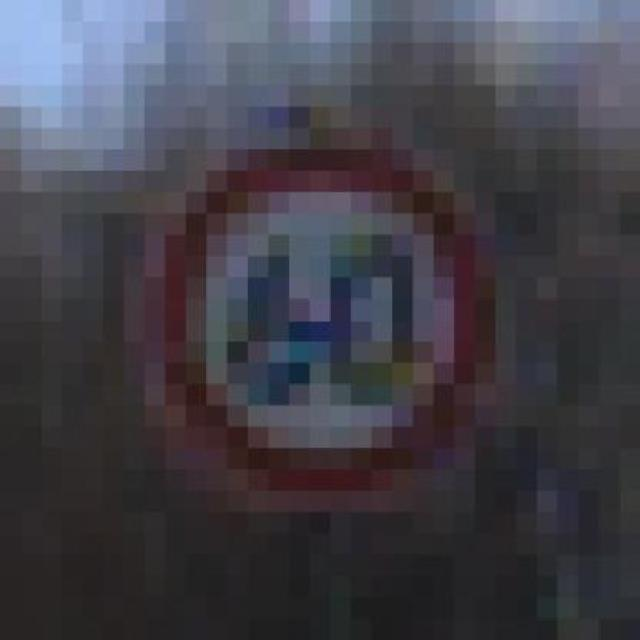forb_speed_over_60: (155, 149, 490, 489)
